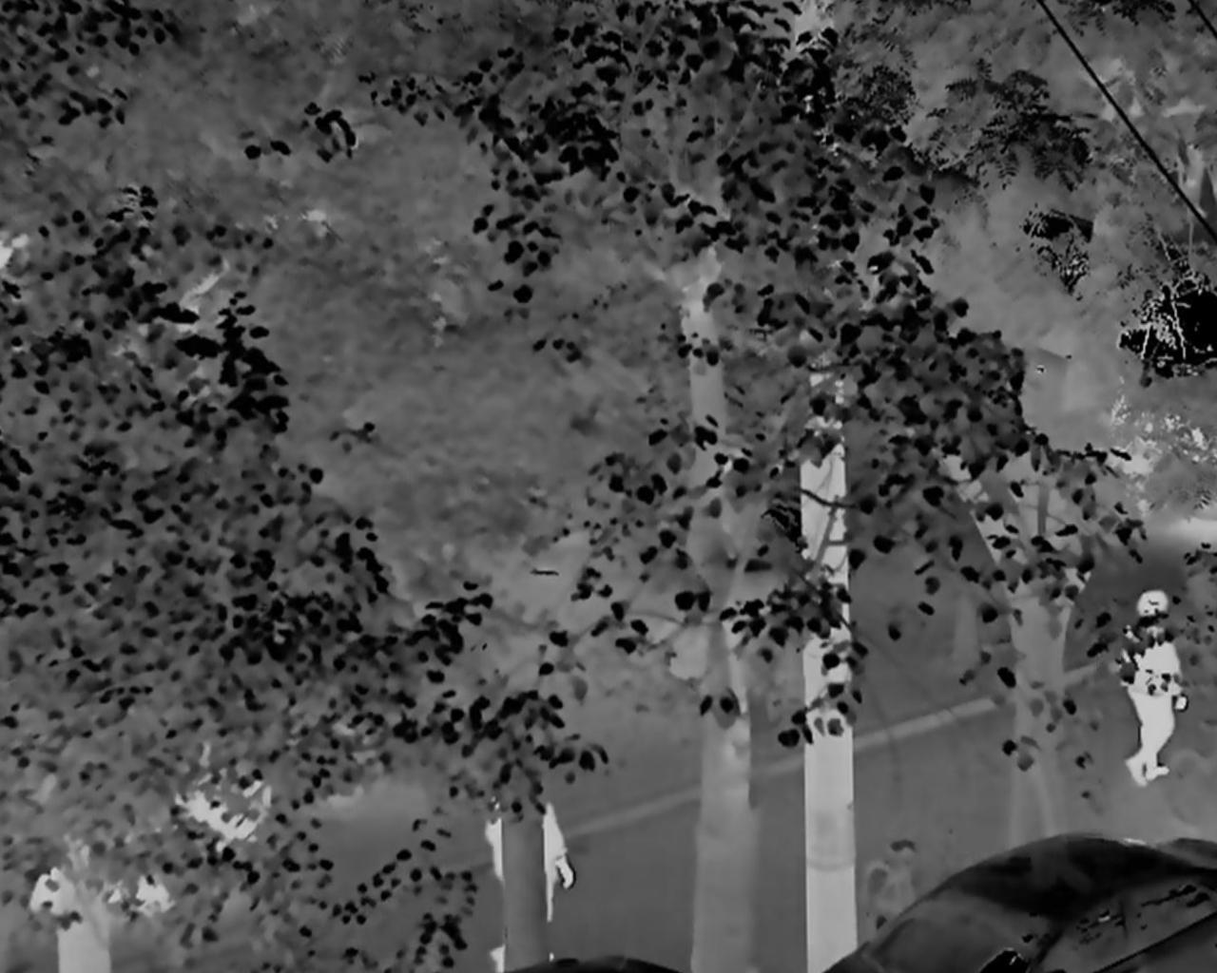person: (1121, 588, 1188, 788)
